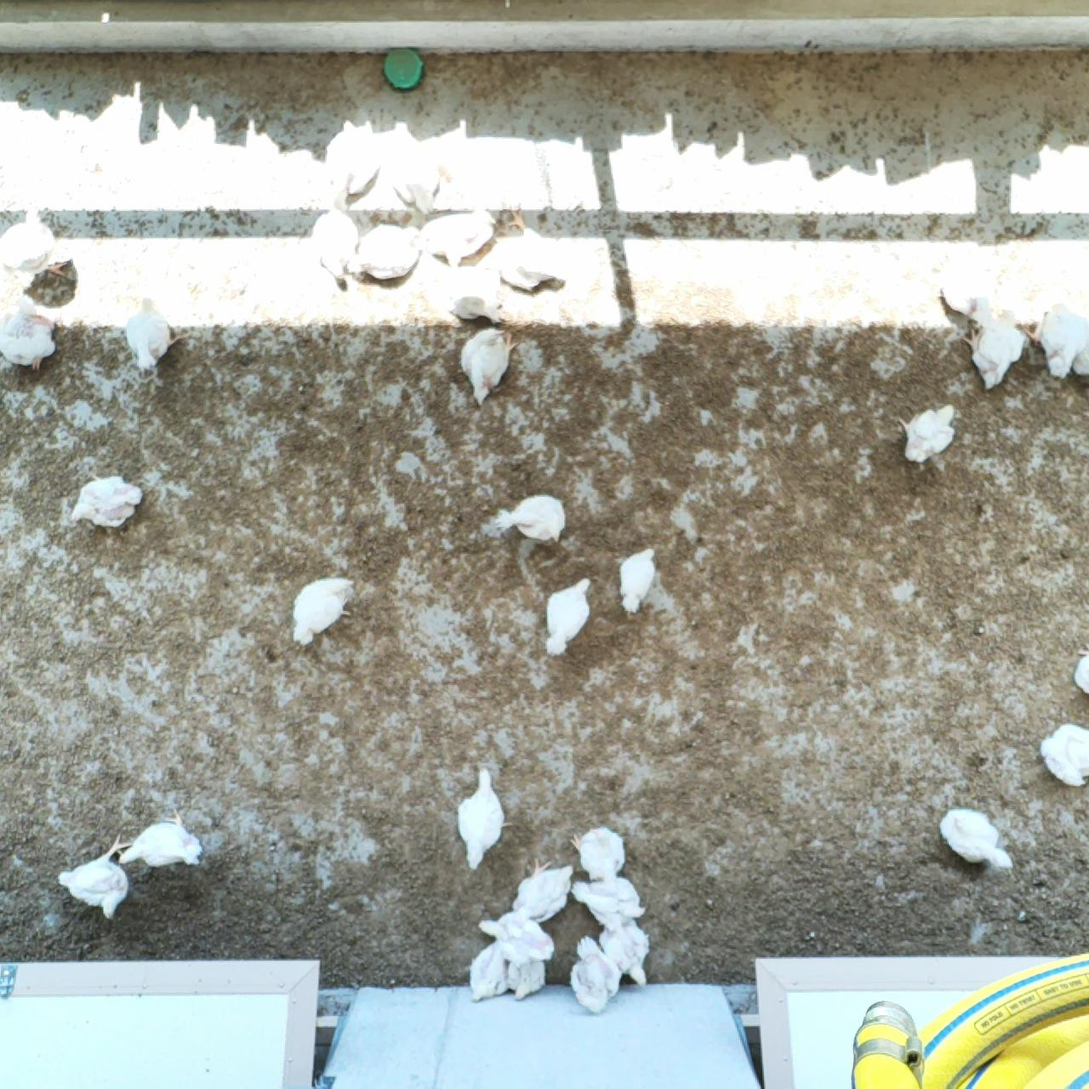chicken: (56, 831, 134, 921), (490, 203, 567, 293), (451, 766, 514, 872), (959, 304, 1031, 396), (378, 122, 448, 215), (116, 805, 204, 871), (0, 204, 73, 282), (321, 118, 381, 210), (1023, 299, 1089, 381), (935, 807, 1015, 873), (458, 325, 520, 408), (124, 293, 189, 371), (290, 574, 359, 647), (566, 932, 624, 1017), (419, 208, 499, 268), (0, 292, 59, 372), (348, 219, 423, 280), (510, 856, 576, 925), (70, 473, 146, 532), (308, 203, 361, 285), (478, 910, 558, 964), (894, 401, 961, 465), (544, 574, 594, 659), (570, 873, 648, 927), (495, 489, 570, 545), (441, 265, 504, 327), (597, 920, 654, 988), (1036, 721, 1089, 789), (466, 938, 516, 1006), (570, 823, 628, 880), (618, 546, 658, 615), (506, 956, 549, 1002), (1071, 640, 1089, 696)
